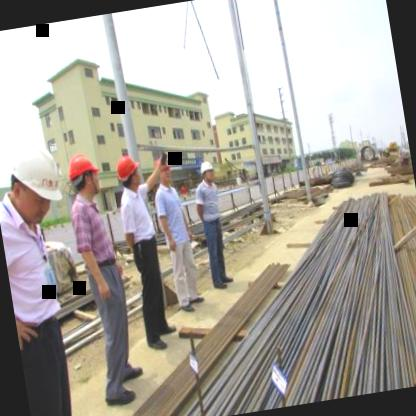helmet: (0, 139, 65, 229), (64, 148, 104, 201), (113, 152, 143, 194), (152, 152, 174, 188), (196, 156, 218, 185)
